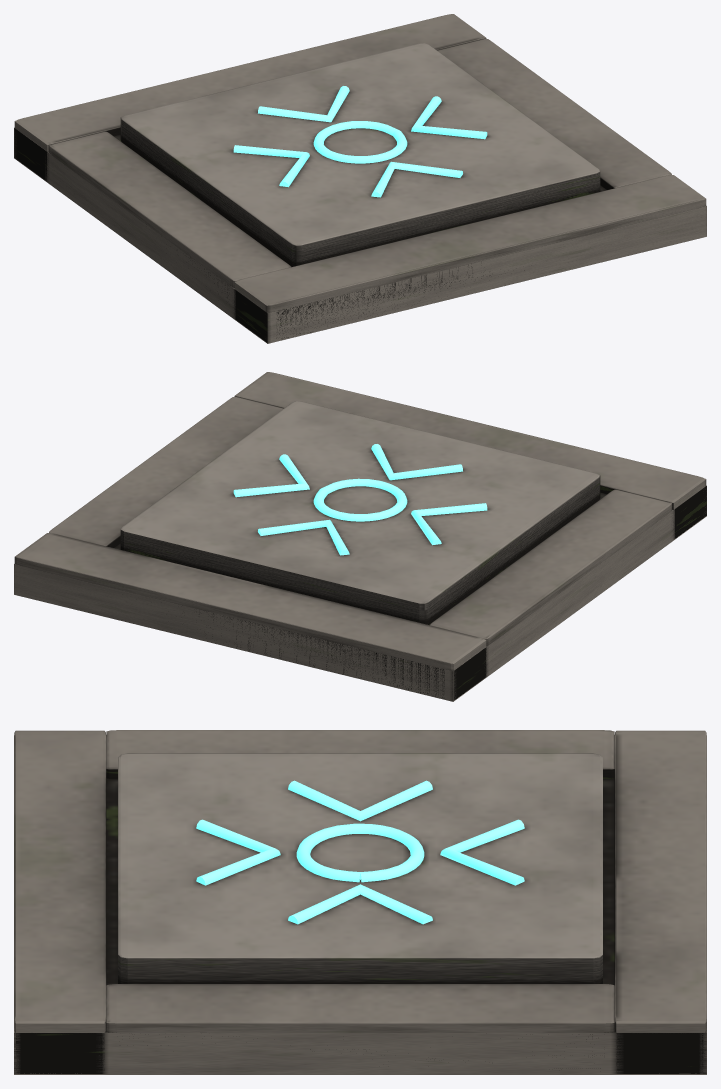
File: puzzle_placa.glb
3 views of the same model, one above another, from view 1: azimuth 30°, elevation 25°; view 2: azimuth 150°, elevation 25°; view 3: azimuth 270°, elevation 25° (orthographic). The views are drawn at different scales.
Parts seen in each view (by area): view 1: puzzle_placa, circulo, sulco0, sulco2, sulco1, sulco3; view 2: puzzle_placa, circulo, sulco2, sulco0, sulco3, sulco1; view 3: puzzle_placa, circulo, sulco1, sulco3, sulco2, sulco0.
Part boxes in pixels (left/top/right/bottom): puzzle_placa: left=14, top=14, right=706, bottom=343; circulo: left=313, top=121, right=407, bottom=163; sulco0: left=411, top=96, right=487, bottom=139; sulco2: left=233, top=145, right=309, bottom=187; sulco1: left=258, top=86, right=349, bottom=122; sulco3: left=371, top=161, right=462, bottom=197; puzzle_placa: left=14, top=372, right=706, bottom=701; circulo: left=313, top=478, right=407, bottom=521; sulco2: left=411, top=503, right=487, bottom=545; sulco0: left=233, top=454, right=309, bottom=497; sulco3: left=371, top=444, right=462, bottom=480; sulco1: left=258, top=519, right=349, bottom=555; puzzle_placa: left=14, top=730, right=706, bottom=1074; circulo: left=296, top=823, right=424, bottom=882; sulco1: left=440, top=819, right=524, bottom=885; sulco3: left=196, top=819, right=280, bottom=885; sulco2: left=288, top=780, right=432, bottom=821; sulco0: left=288, top=884, right=432, bottom=924.
Bounding box in the file's own units: 1.2 × 0.1524 × 1.2.
6 materials, 1 textured.
